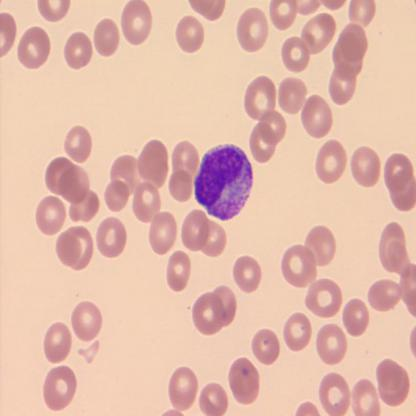Metamyelocyte: (192, 142, 255, 224)
